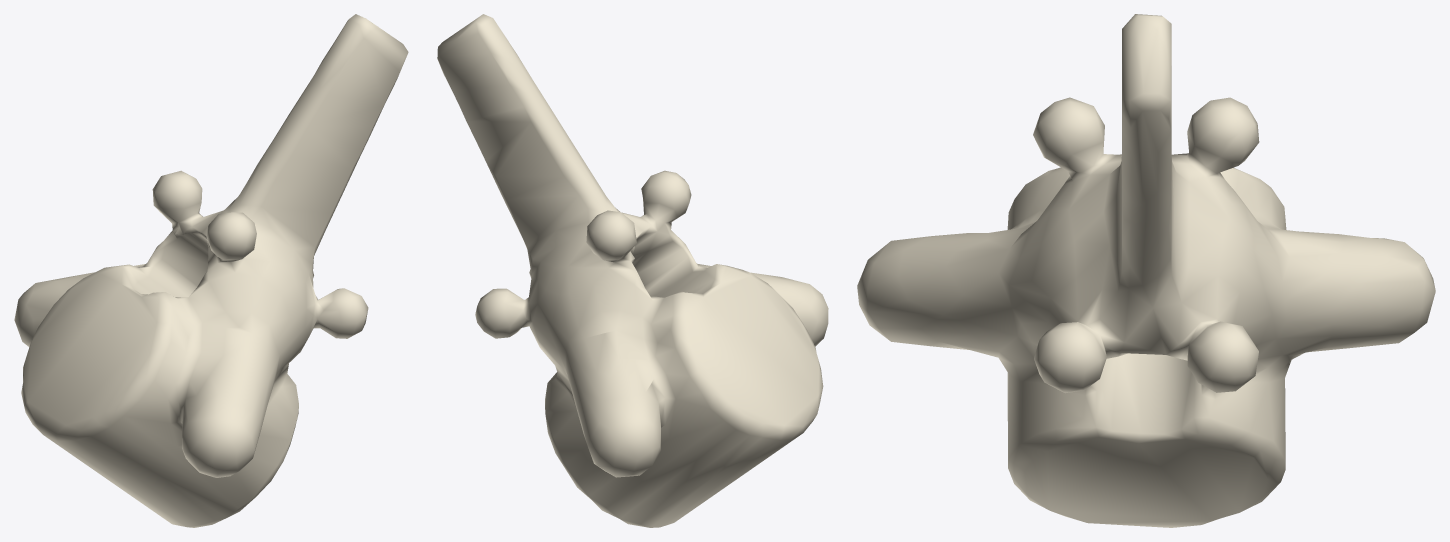
Rendered from cervical_7.glb.
The picture shows the model from 3 angles, left to right: view 1: azimuth 30°, elevation 25°; view 2: azimuth 150°, elevation 25°; view 3: azimuth 270°, elevation 25°; orthographic projection. The views are drawn at different scales.
Visible parts, largest first — view 1: geometry_0; view 2: geometry_0; view 3: geometry_0.
Part boxes in pixels (<box>): geometry_0: <box>14,14,408,527</box>; geometry_0: <box>437,14,828,527</box>; geometry_0: <box>857,14,1435,527</box>.
Size of the model in its own units: 0.3321 by 0.3972 by 0.3243.
